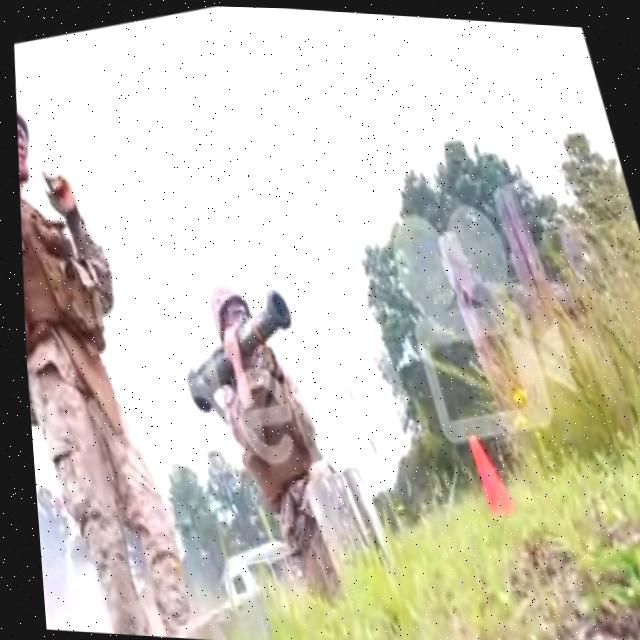rocket: (153, 275, 310, 425)
